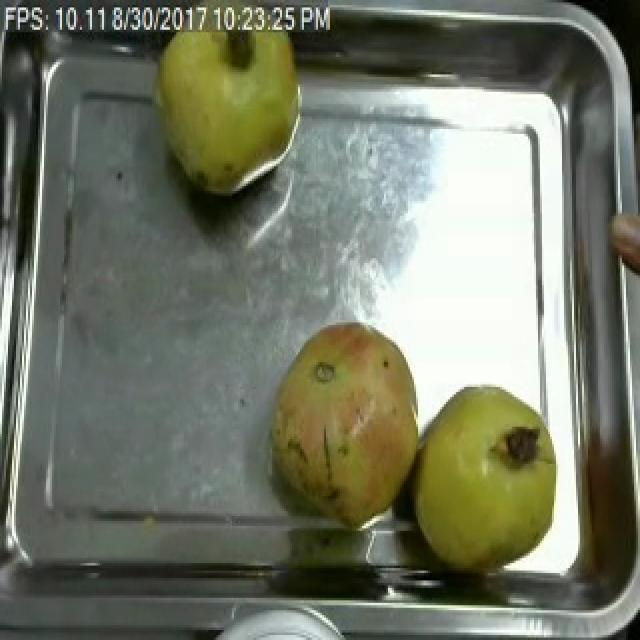fruit: (256, 302, 436, 550), (142, 2, 314, 208), (406, 370, 568, 580), (606, 199, 640, 295)
